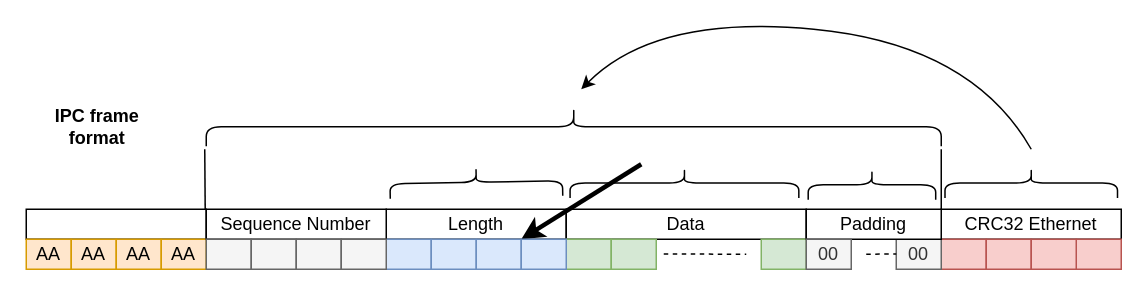
This 1148x296 diagram has some shape labels left out. The centre of each missing label's shape, as x and y in pixels:
(256 - n) bytes: point 871,184
32 bits: point 475,181
n bytes: point 684,182
StartFrameDelimitor: point 115,223
